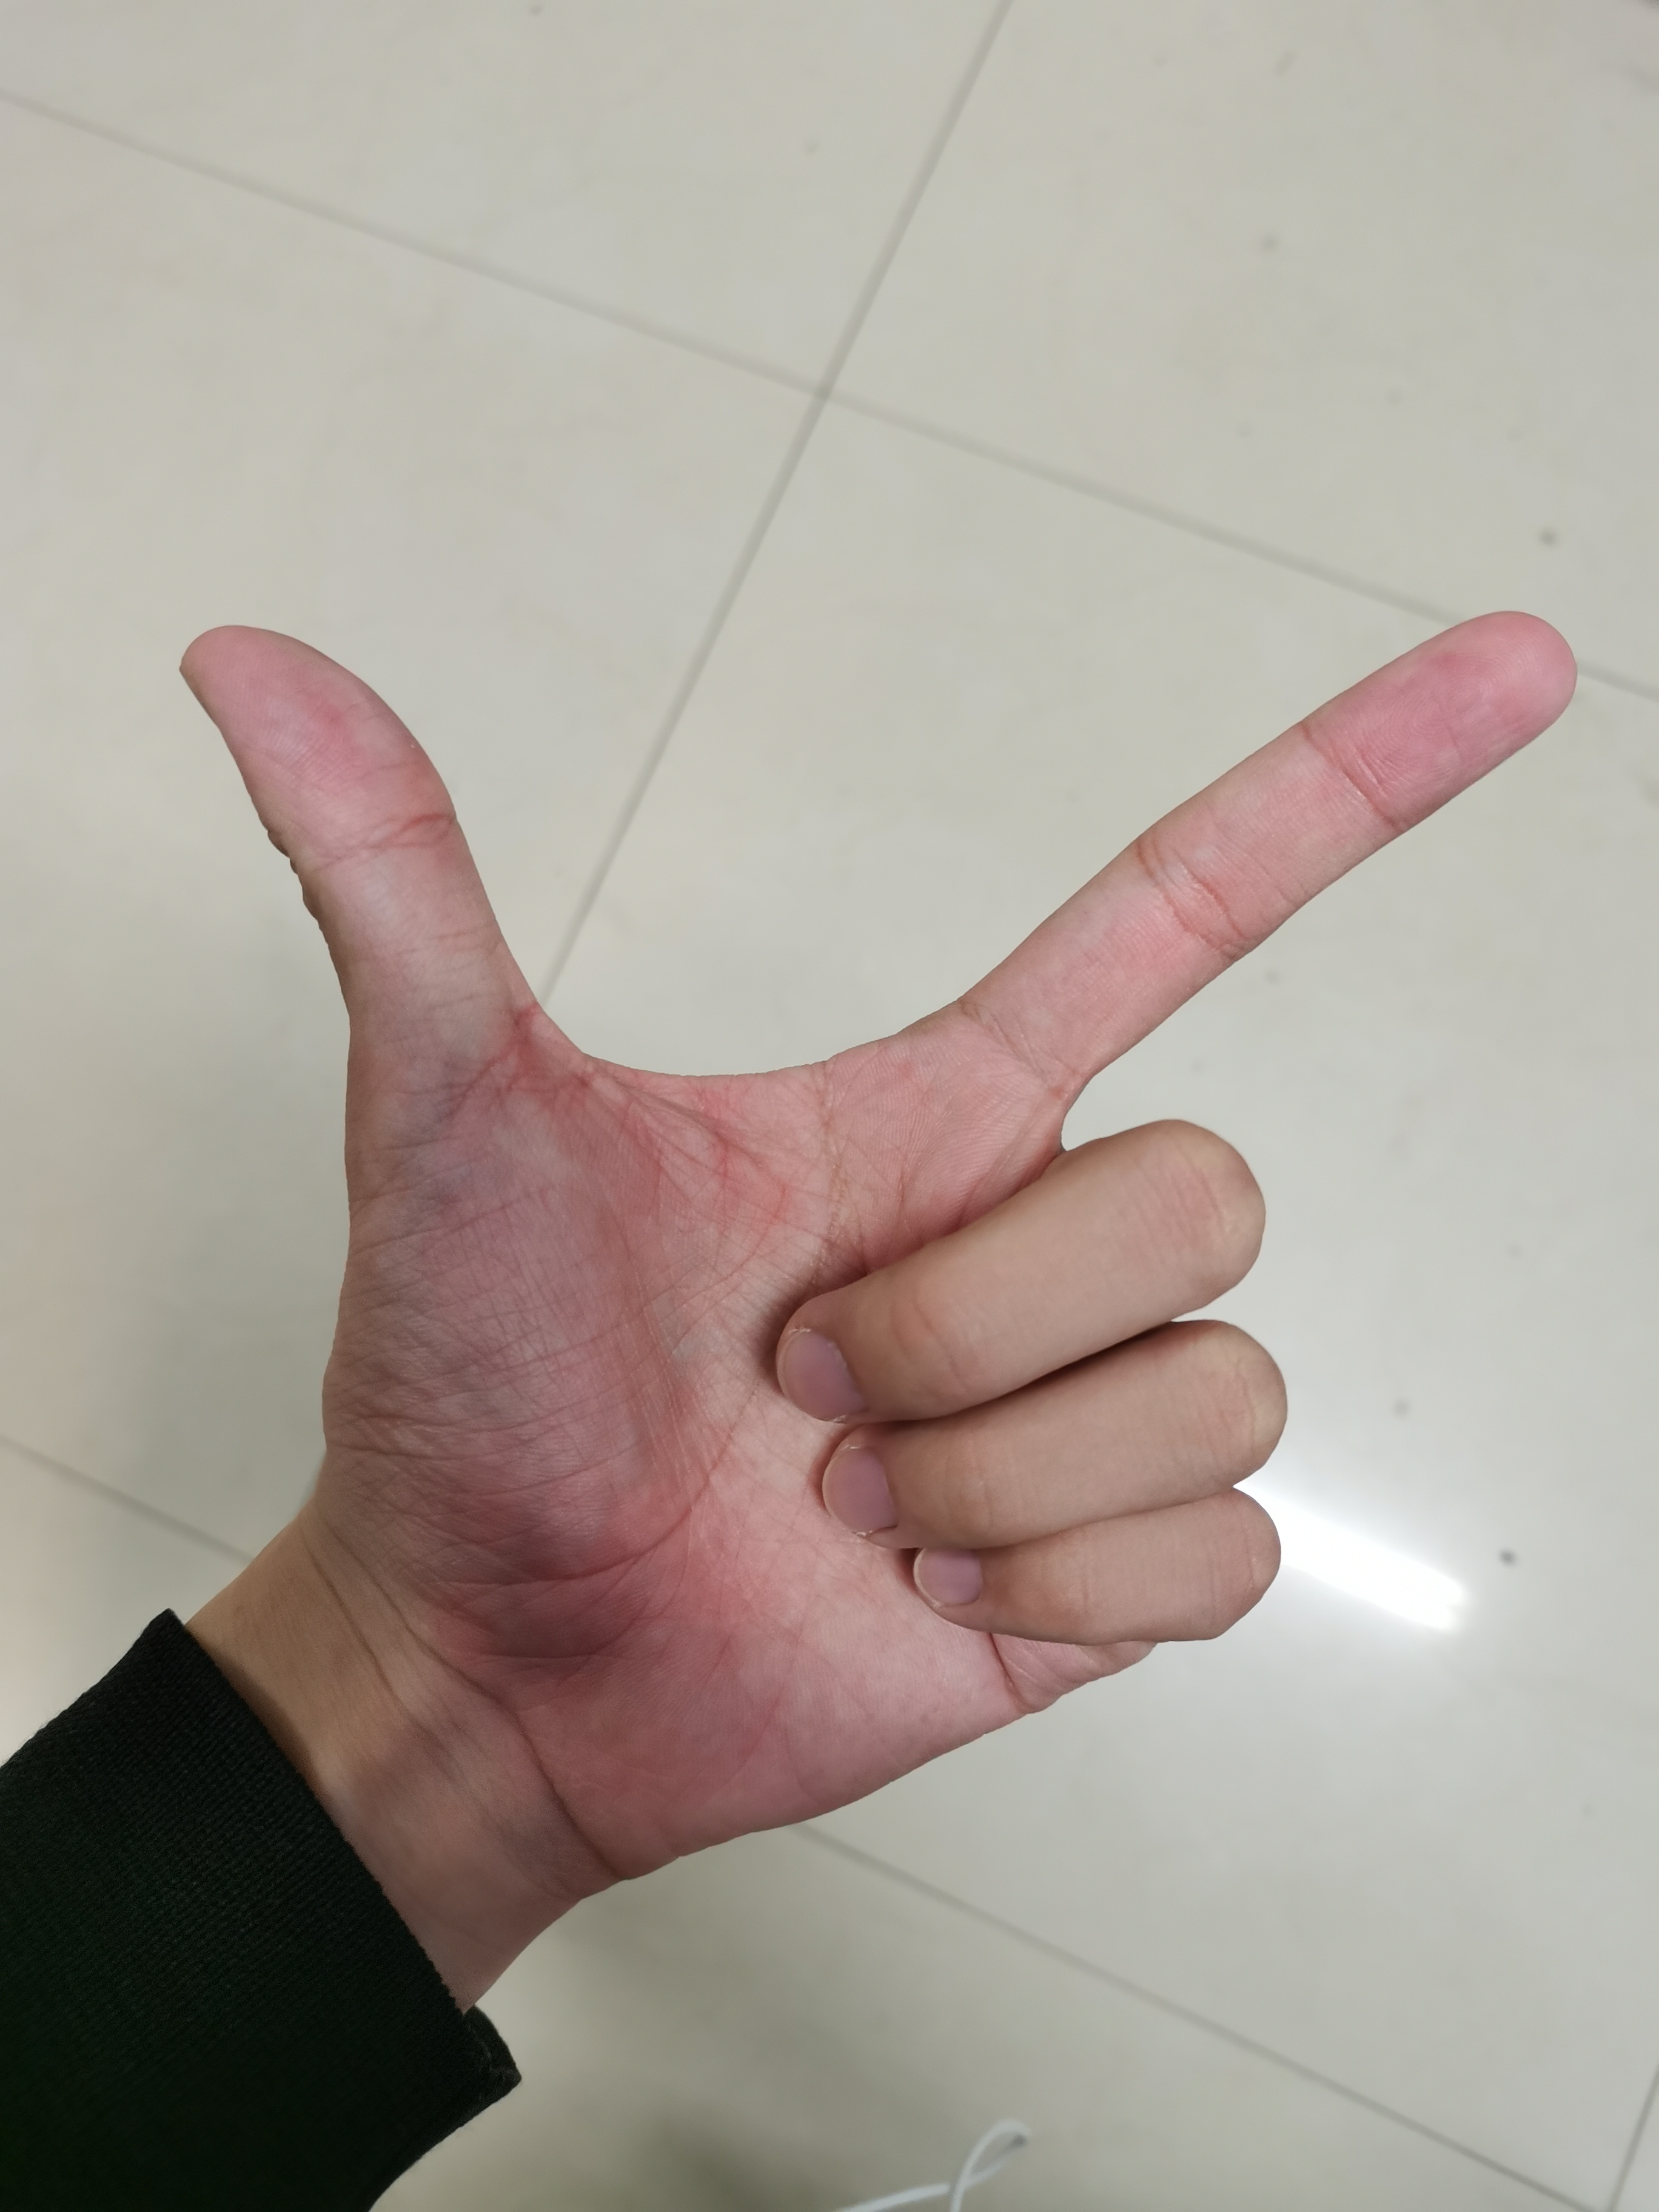no-phone: (152, 526, 1612, 1904)
